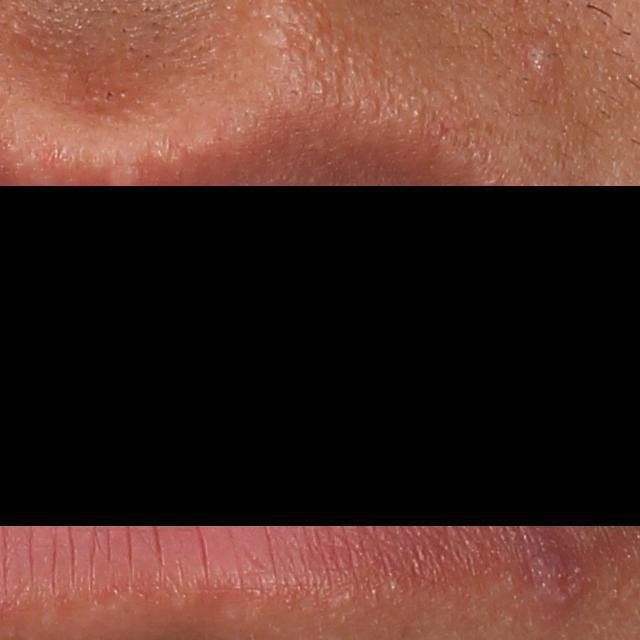papule: (531, 568, 589, 609), (524, 35, 560, 81)
